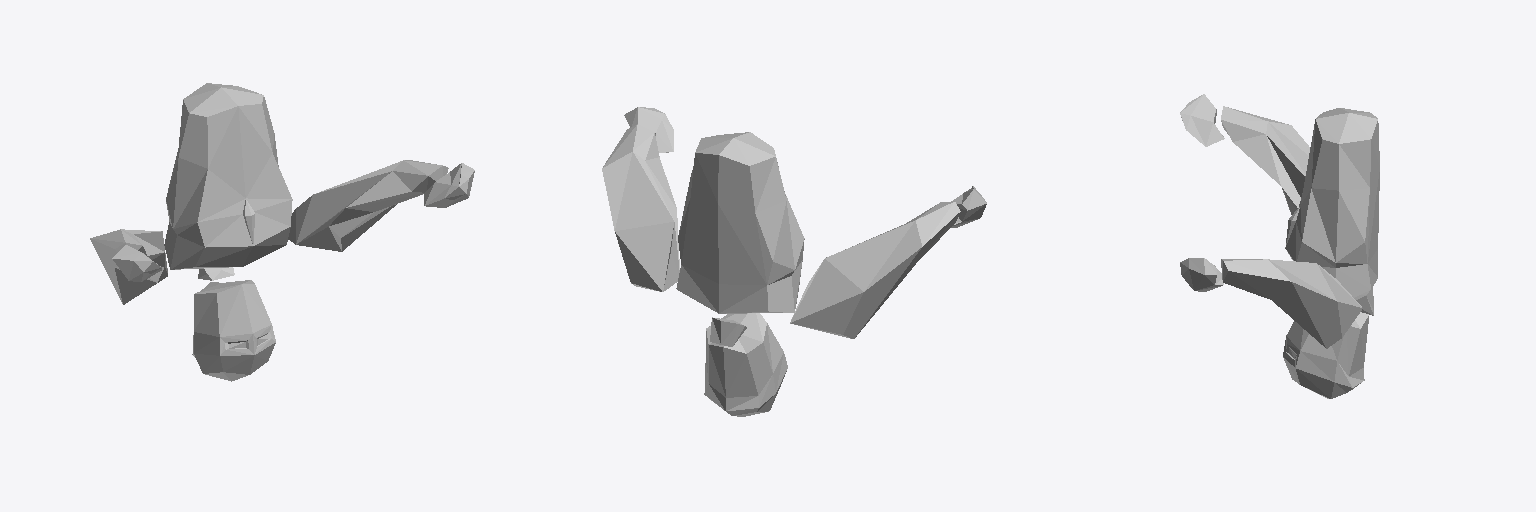
File: celestial.obj
3 renders of one model, left to right at view 1: azimuth 30°, elevation 25°; view 2: azimuth 150°, elevation 25°; view 3: azimuth 270°, elevation 25°, orthographic.
Parts seen in each view (by area): view 1: Cube.002; view 2: Cube.002; view 3: Cube.002.
Part boxes in pixels (bbox=[...]): Cube.002: bbox=[90, 83, 474, 381]; Cube.002: bbox=[602, 107, 986, 416]; Cube.002: bbox=[1180, 94, 1379, 398].
Bounding box in the file's own units: 42.1 × 31.74 × 20.09.